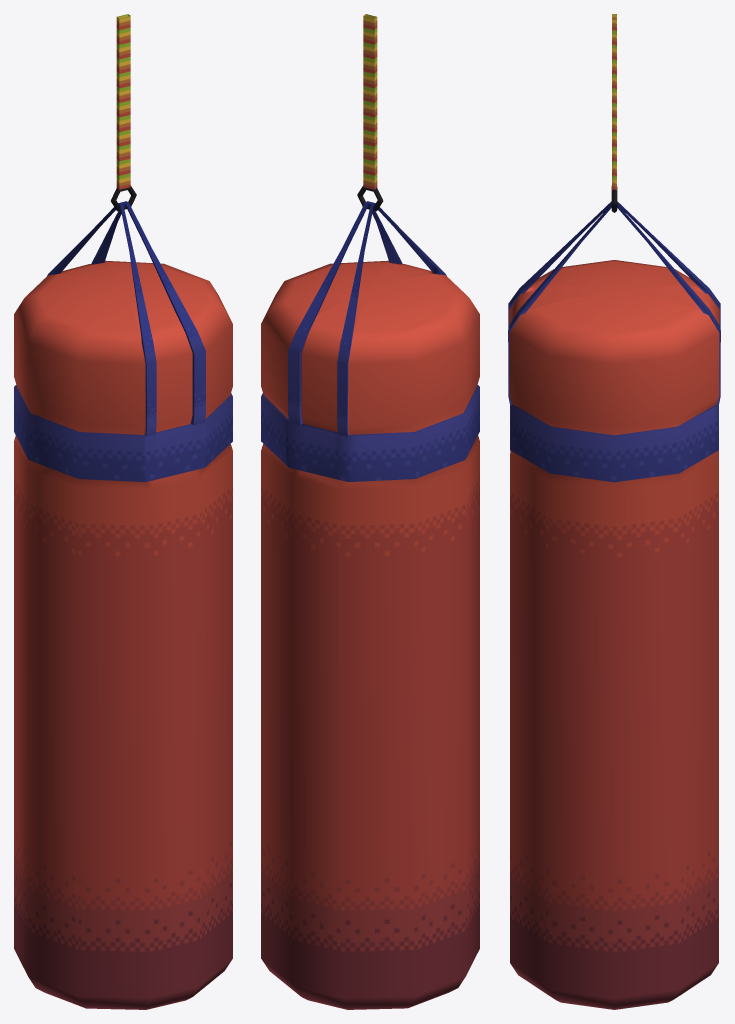
Rendered from SacoNormal.fbx.
The picture shows the model from 3 angles, left to right: view 1: azimuth 30°, elevation 25°; view 2: azimuth 150°, elevation 25°; view 3: azimuth 270°, elevation 25°; orthographic projection.
Visible parts, largest first — view 1: saco, CINTA_g_; view 2: saco, CINTA_g_; view 3: saco, CINTA_g_.
Part boxes in pixels (x1,y1,x2,y2): saco: [14, 201, 232, 1009]; CINTA_g_: [111, 14, 136, 211]; saco: [261, 201, 479, 1009]; CINTA_g_: [357, 14, 383, 211]; saco: [508, 201, 720, 1009]; CINTA_g_: [611, 14, 617, 212].
Bounding box in the file's own units: 29.99 × 145 × 29.08.
